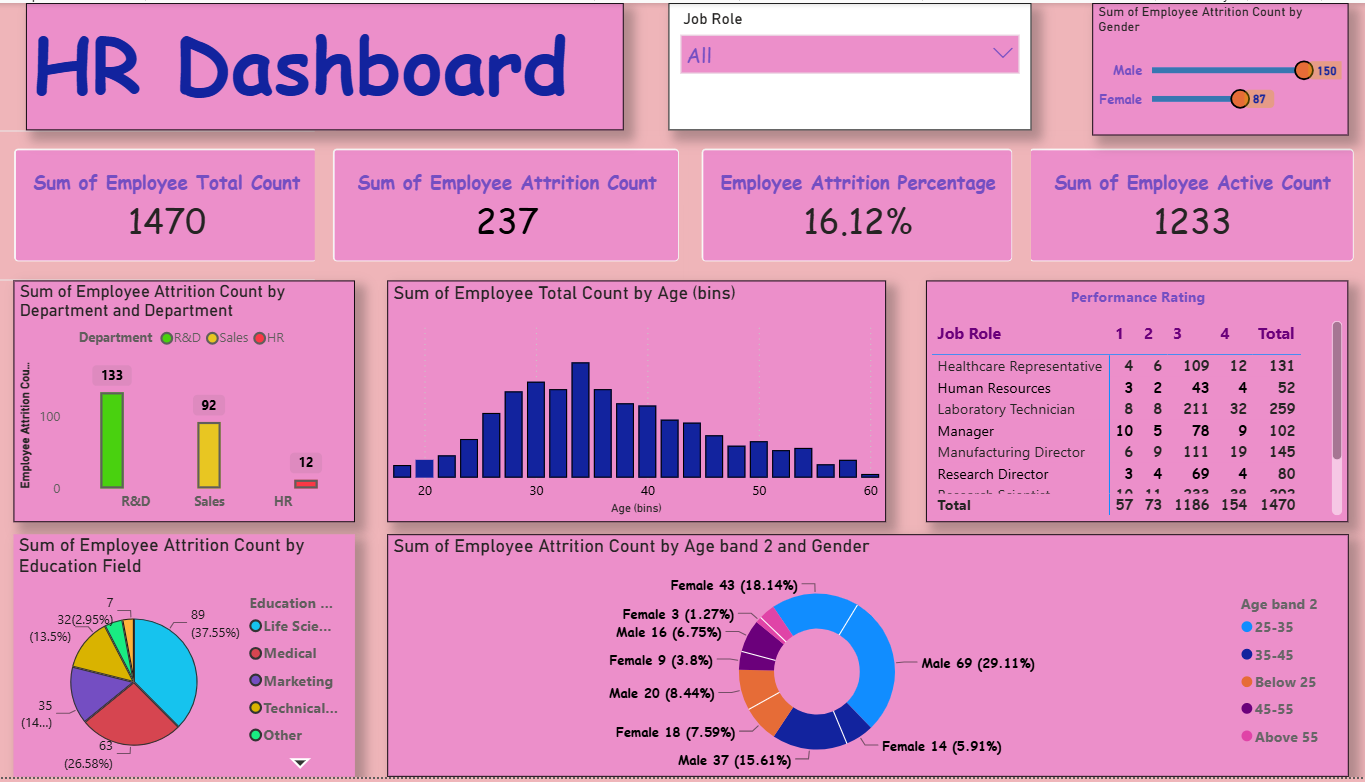

The page's visual inventory and layout, read from the dashboard file:
{"tool":"powerbi","page":{"name":"Page 2","canvas":[1280,720],"ordinal":0},"visuals":[{"type":"cardVisual","fields":{"Data":["Sum(HR data.Employee Count)"]},"box":[0,118.6,316.3,139.5],"z":0},{"type":"cardVisual","fields":{"Data":["Sum(HR data.Employee Attrition Count)"]},"box":[296.5,118.6,357,139.5],"z":1000},{"type":"cardVisual","fields":{"Data":["Sum(HR data.Active Employee Count)"]},"box":[944.2,118.6,336,139.5],"z":2000},{"type":"cardVisual","fields":{"Data":["HR data.Employee Attrition Percentage"]},"box":[639.5,118.6,323.3,139.5],"z":3000},{"type":"textbox","box":[27.9,0,555.8,118.6],"z":4000},{"type":"slicer","fields":{"Values":["HR data.Job Role"]},"box":[625.6,0,337.2,118.6],"z":5000},{"type":"clusteredBarChart","fields":{"Category":["HR data.Gender"],"Y":["Sum(HR data.Employee Attrition Count)"]},"box":[1019.8,0,238.4,123.3],"z":6000},{"type":"clusteredColumnChart","fields":{"Category":["Table1.Department"],"Y":["Sum(Table1.Employee Attrition Count)"],"Series":["Table1.Department"]},"box":[16.3,258.1,317.4,224.4],"z":7000},{"type":"columnChart","fields":{"Category":["HR data.Age (bins)"],"Y":["Sum(HR data.Employee Total Count)"]},"box":[364,258.1,464,224.4],"z":8000},{"type":"pivotTable","fields":{"Rows":["HR data.Job Role"],"Columns":["HR data.Performance Rating"],"Values":["CountNonNull(HR data.Performance Rating)"]},"box":[865.1,258.1,393,224.4],"z":9000},{"type":"pieChart","fields":{"Category":["HR data.Education Field"],"Y":["Sum(HR data.Employee Attrition Count)"]},"box":[16.3,494.2,317.4,225.6],"z":10000},{"type":"donutChart","fields":{"Series":["HR data.Gender"],"Y":["Sum(HR data.Employee Attrition Count)"],"Category":["HR data.Age band 2"]},"box":[364,494.2,894.2,225.6],"z":11000}]}

Visuals, with their boxes in screenshot pixels (x1, y1, x2, y2), scaled from the page's 1280x720 canvas onto the 1365x782 screenshot:
cardVisual - Sum(HR data.Employee Count): {"x1": 0, "y1": 129, "x2": 337, "y2": 280}
cardVisual - Sum(HR data.Employee Attrition Count): {"x1": 316, "y1": 129, "x2": 697, "y2": 280}
cardVisual - Sum(HR data.Active Employee Count): {"x1": 1007, "y1": 129, "x2": 1364, "y2": 280}
cardVisual - HR data.Employee Attrition Percentage: {"x1": 682, "y1": 129, "x2": 1027, "y2": 280}
textbox: {"x1": 30, "y1": 0, "x2": 622, "y2": 129}
slicer - HR data.Job Role: {"x1": 667, "y1": 0, "x2": 1027, "y2": 129}
clusteredBarChart - HR data.Gender x Sum(HR data.Employee Attrition Count): {"x1": 1088, "y1": 0, "x2": 1342, "y2": 134}
clusteredColumnChart - Table1.Department x Sum(Table1.Employee Attrition Count): {"x1": 17, "y1": 280, "x2": 356, "y2": 524}
columnChart - HR data.Age (bins) x Sum(HR data.Employee Total Count): {"x1": 388, "y1": 280, "x2": 883, "y2": 524}
pivotTable - HR data.Job Role x HR data.Performance Rating: {"x1": 923, "y1": 280, "x2": 1342, "y2": 524}
pieChart - HR data.Education Field x Sum(HR data.Employee Attrition Count): {"x1": 17, "y1": 537, "x2": 356, "y2": 781}
donutChart - HR data.Gender x Sum(HR data.Employee Attrition Count): {"x1": 388, "y1": 537, "x2": 1342, "y2": 781}
